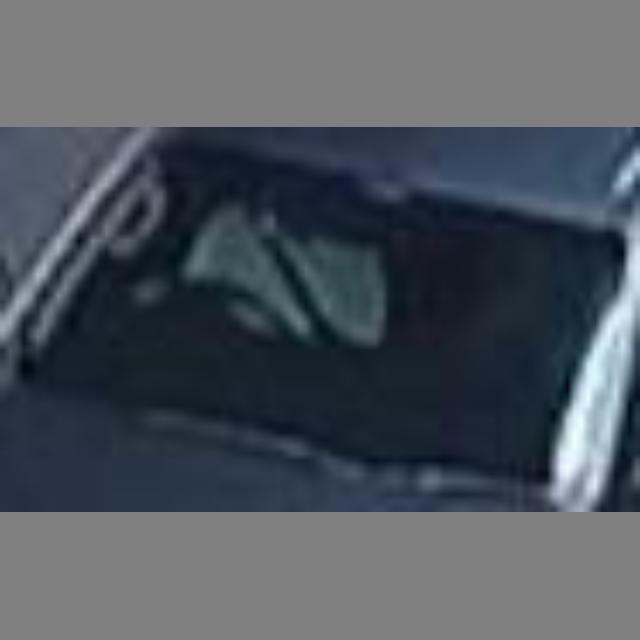pakai: (206, 203, 392, 430)
